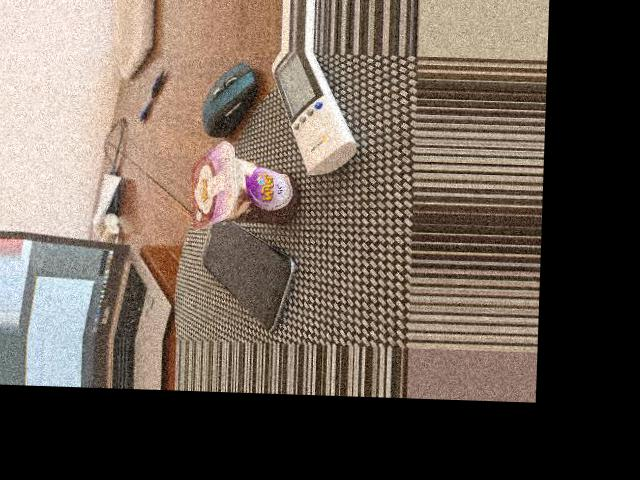milky: (188, 150, 300, 235)
